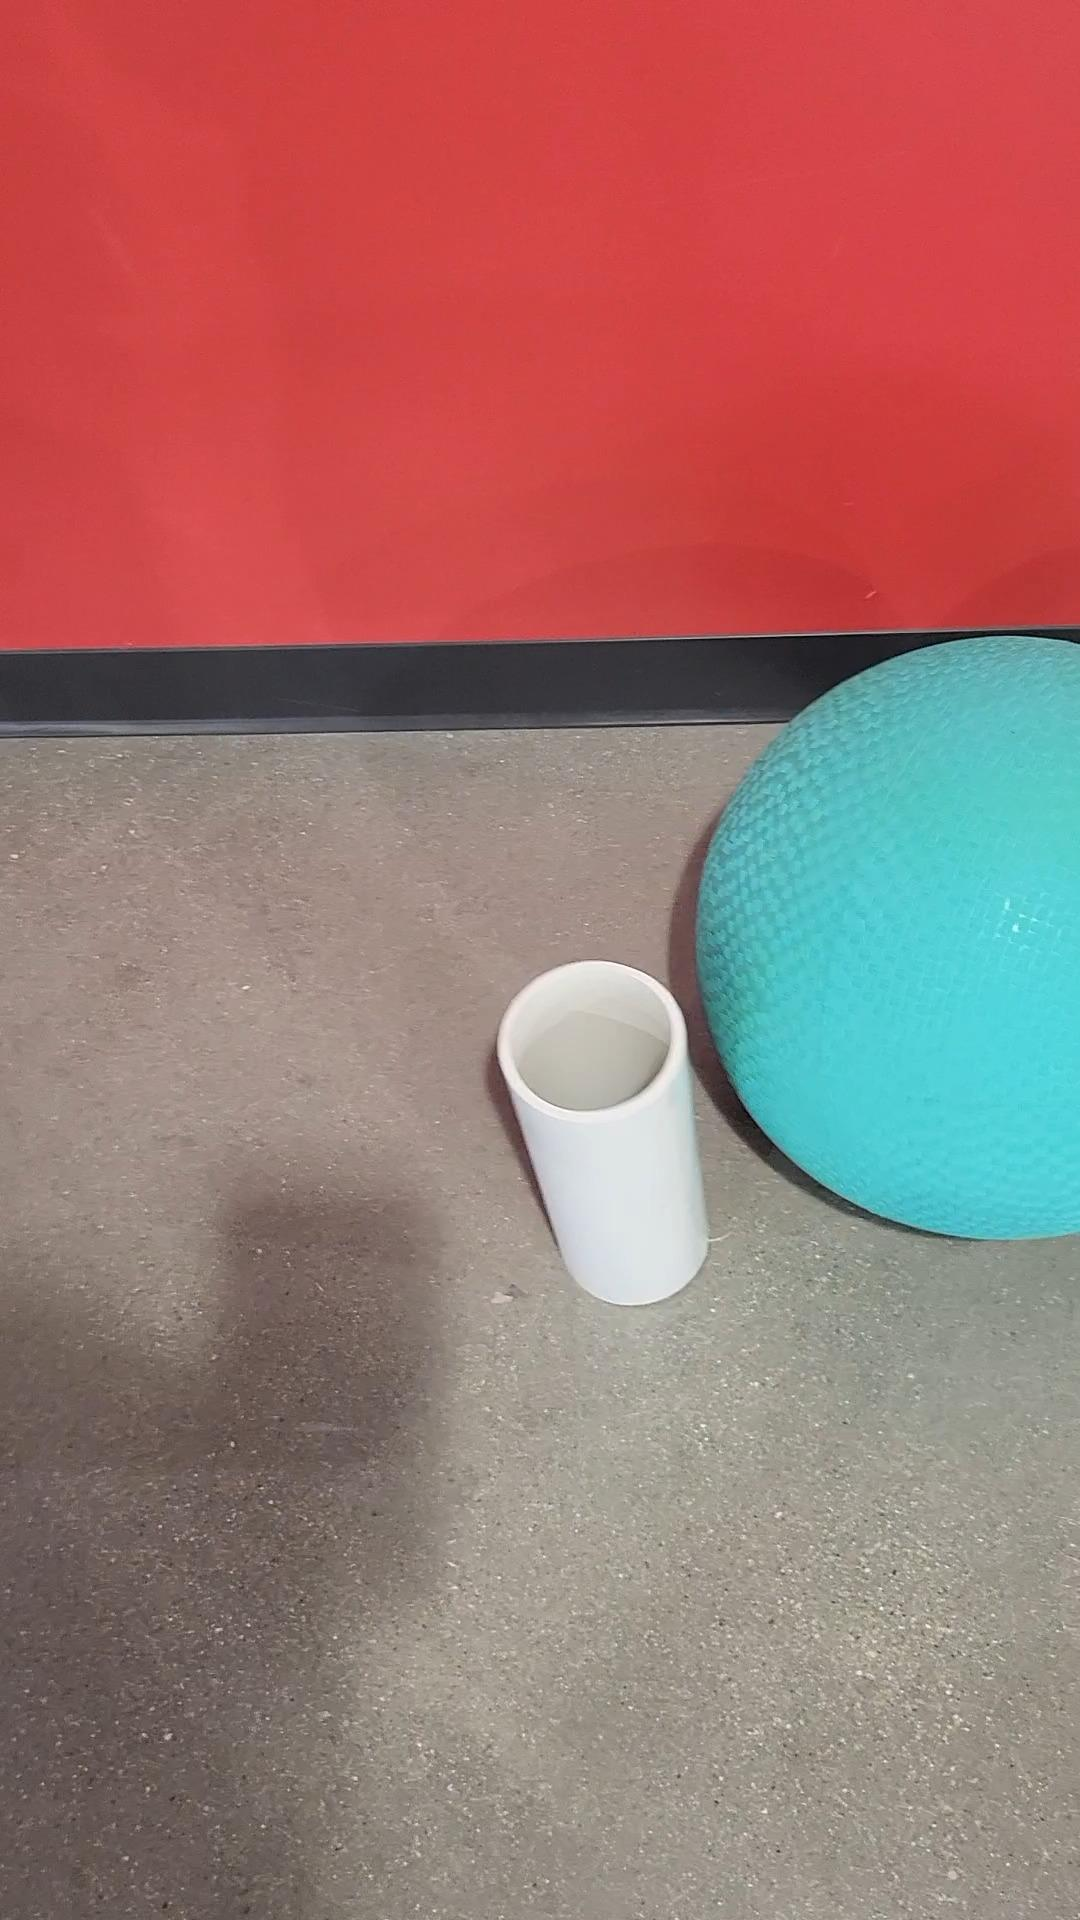algae: (692, 632, 1079, 1241)
coral: (496, 955, 713, 1304)
